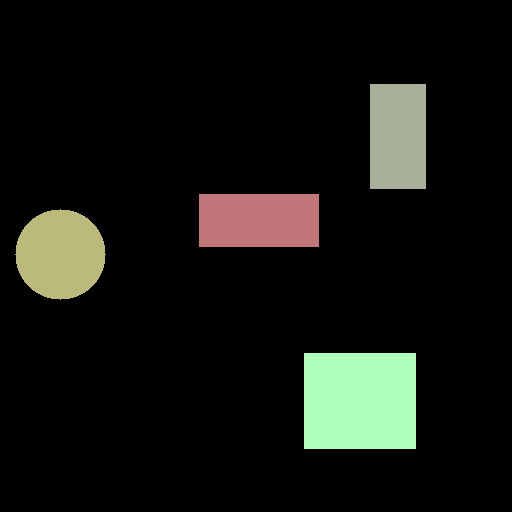circle: (15, 209, 105, 299)
rectangle: (304, 353, 415, 448), (199, 194, 318, 246), (370, 84, 425, 188)
